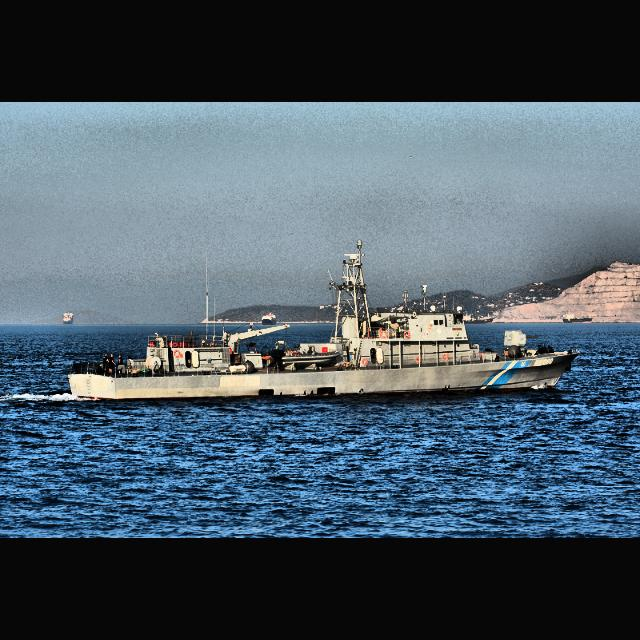patrol_vessel: (62, 236, 584, 402)
